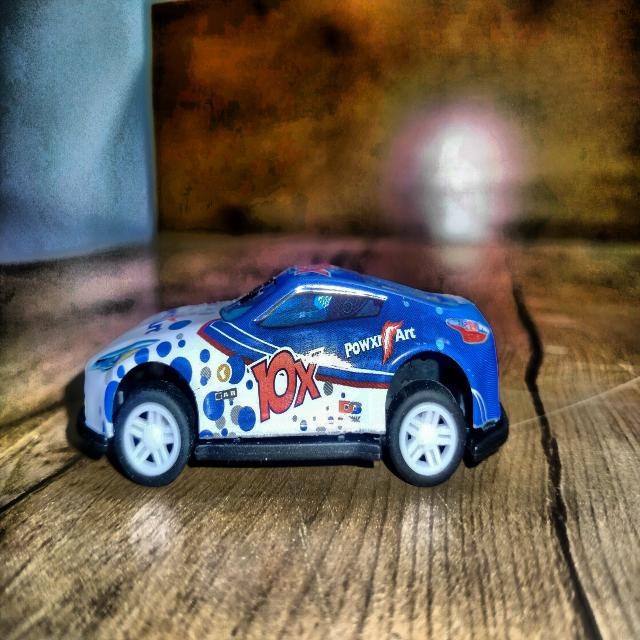Car: (77, 266, 508, 487)
